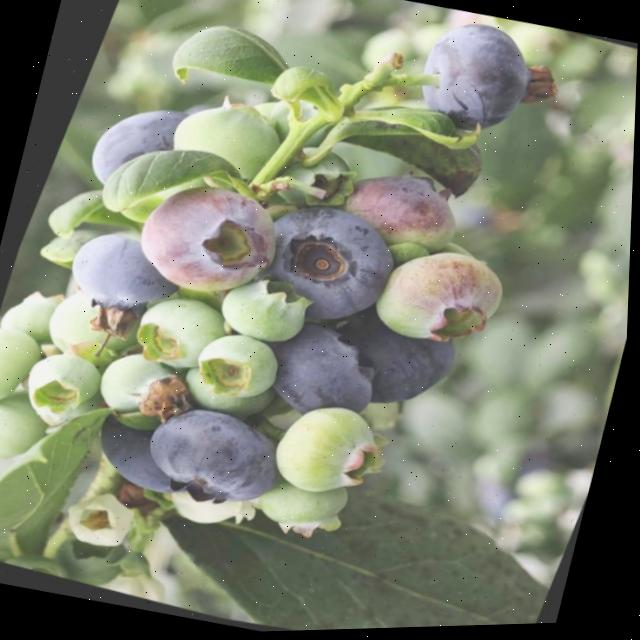RipeBlueBerry: (251, 191, 407, 330), (397, 8, 546, 149), (139, 397, 295, 516)
Semi-RipeBlueBerry: (119, 164, 290, 315), (364, 235, 516, 367)
UnripeBlueBerry: (258, 389, 397, 516), (125, 284, 231, 377), (186, 325, 287, 411), (16, 340, 110, 422), (0, 322, 42, 411)
